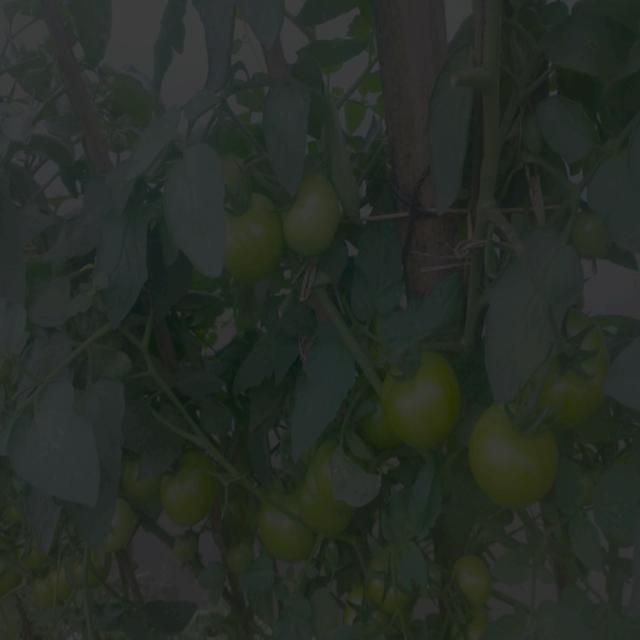tomato: (469, 408, 561, 502), (388, 353, 467, 449), (221, 183, 292, 283), (554, 307, 607, 422), (161, 449, 221, 529), (288, 179, 346, 257), (302, 454, 346, 535), (261, 485, 309, 556), (361, 561, 410, 621), (566, 210, 610, 265), (64, 546, 116, 589), (460, 552, 493, 605), (216, 541, 253, 574), (450, 607, 486, 640), (114, 498, 135, 552), (4, 534, 29, 572), (30, 577, 51, 607)
